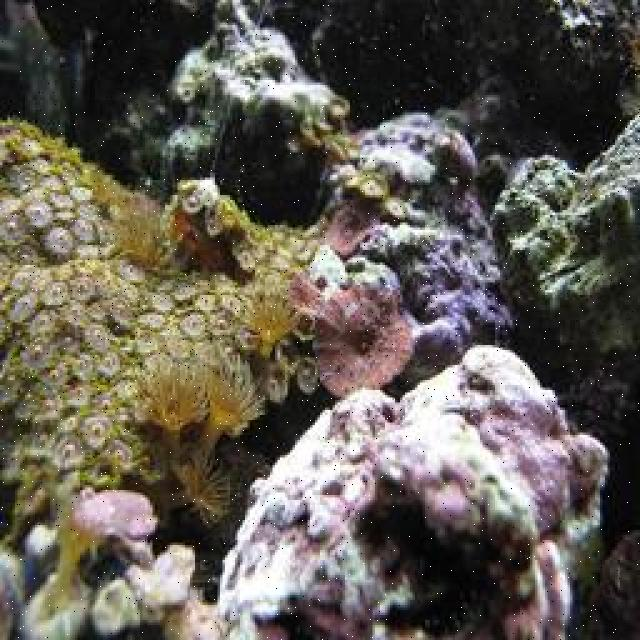reefs: (0, 115, 328, 600)
